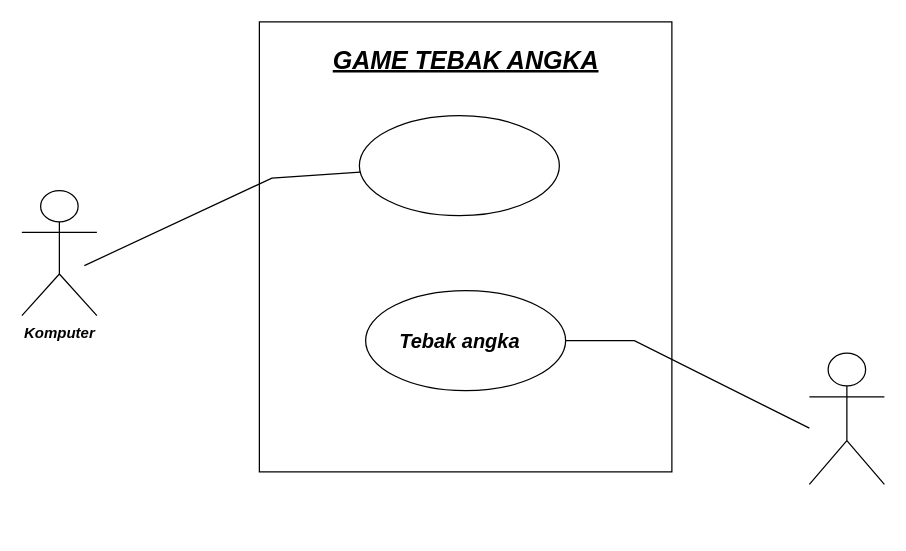
Image size: 906x551. Some labels were removed from this diagram. The centre of each missing label's shape, as x and y in pixels:
"Player2 (user)" belongs at point 846,418.
"Random angka" belongs at point 458,165.
